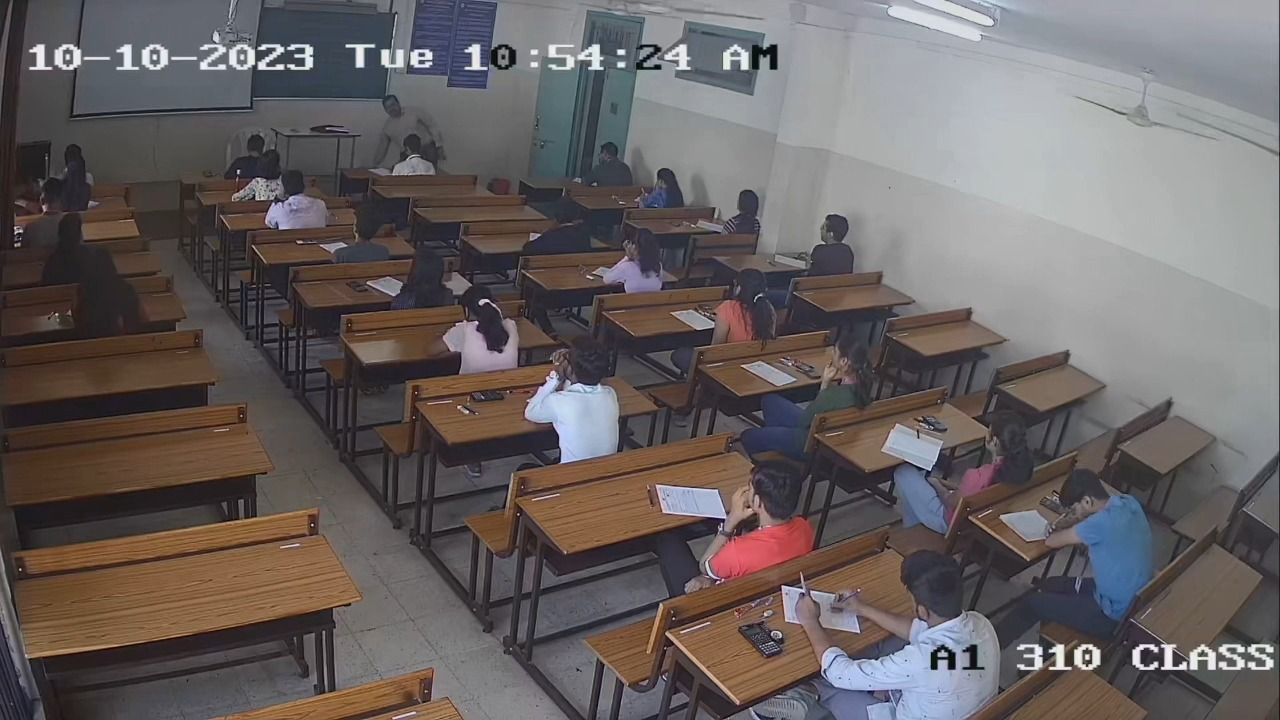cell-phones: (737, 617, 782, 659), (467, 388, 508, 406), (1036, 495, 1066, 517), (921, 414, 950, 435), (798, 359, 820, 383), (346, 280, 370, 293), (695, 302, 716, 315)
person: (851, 550, 998, 716), (1036, 467, 1156, 576), (523, 342, 619, 459), (948, 414, 1031, 491), (794, 336, 872, 412), (385, 247, 457, 311), (714, 268, 776, 339)
